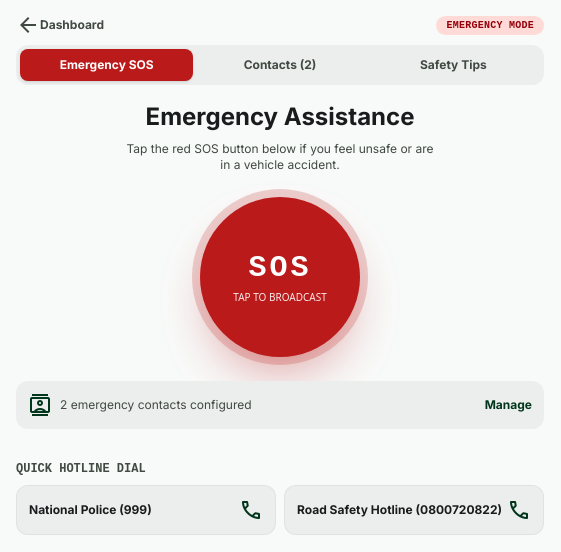
Test case: DATA-002: Emergency SOS Contacts Real Data & Zero Hardcoded Fake Profiles › renders real saved emergency contacts from the authenticated user profile
# Switch to Contacts tab
Step 1. Click the button "Contacts (2)" → (280, 65), box [193,49,367,81]
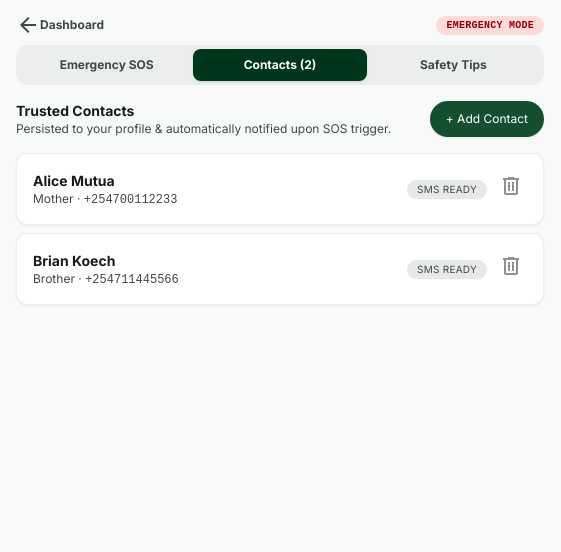
Now the text "Alice Mutua" is shown, box [33,172,115,188]
Now the text "Mother · +254700112233" is shown, box [33,190,177,208]
Now the text "+254700112233" is shown, box [84,192,177,206]
